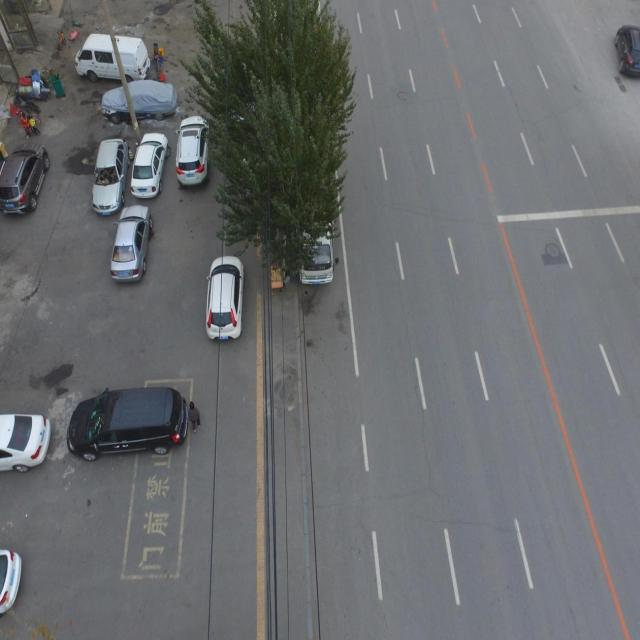p3rson: (188, 400, 202, 434), (19, 112, 32, 140), (28, 118, 40, 137)
